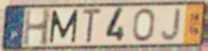4: (105, 6, 129, 45)
H: (21, 7, 53, 48)
J: (160, 8, 182, 43)
M: (48, 8, 80, 45)
O: (132, 7, 156, 43)
T: (81, 7, 103, 45)
